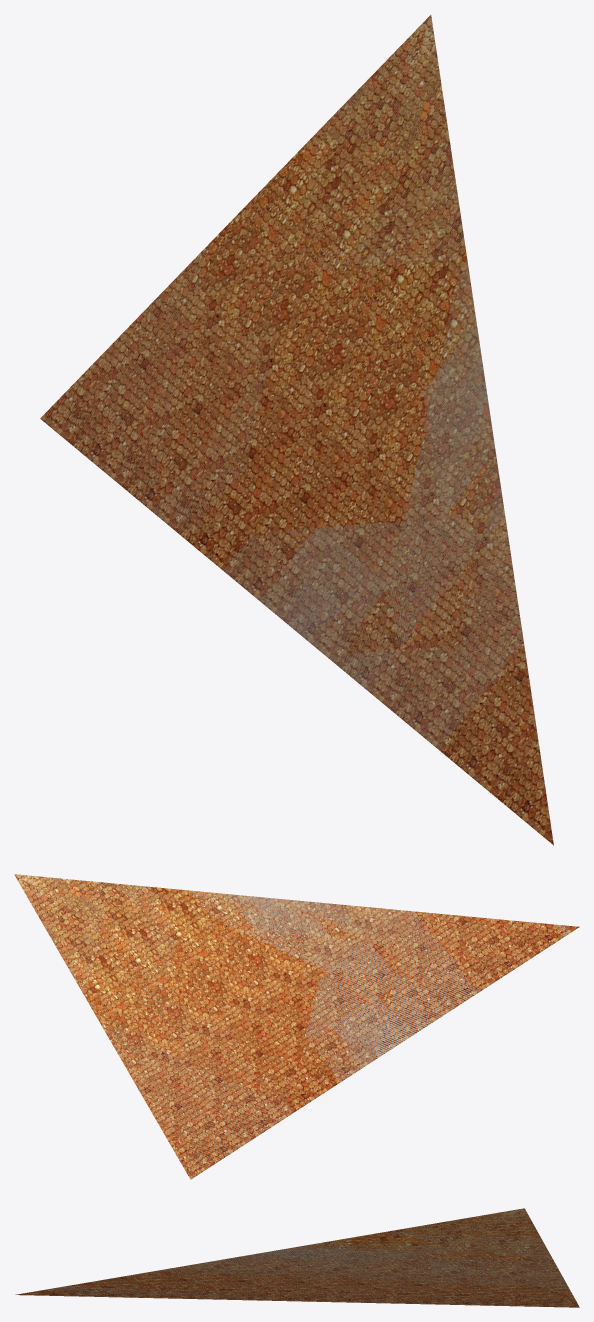
The model's file is 西庸城堡359.dae.
3 views of the same model, one above another, from view 1: azimuth 30°, elevation 25°; view 2: azimuth 150°, elevation 25°; view 3: azimuth 270°, elevation 25° (orthographic). The views are drawn at different scales.
Parts seen in each view (by area): view 1: SketchUp; view 2: SketchUp; view 3: SketchUp.
Boxes of the visible parts, <box> form: SketchUp: <box>40,15,553,845</box>; SketchUp: <box>14,874,579,1179</box>; SketchUp: <box>15,1208,579,1307</box>.
Size of the model in its own units: 308 by 779 by 276.
